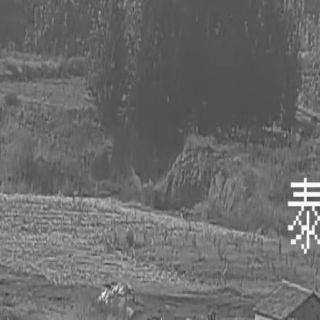other: (8, 124, 224, 216)
